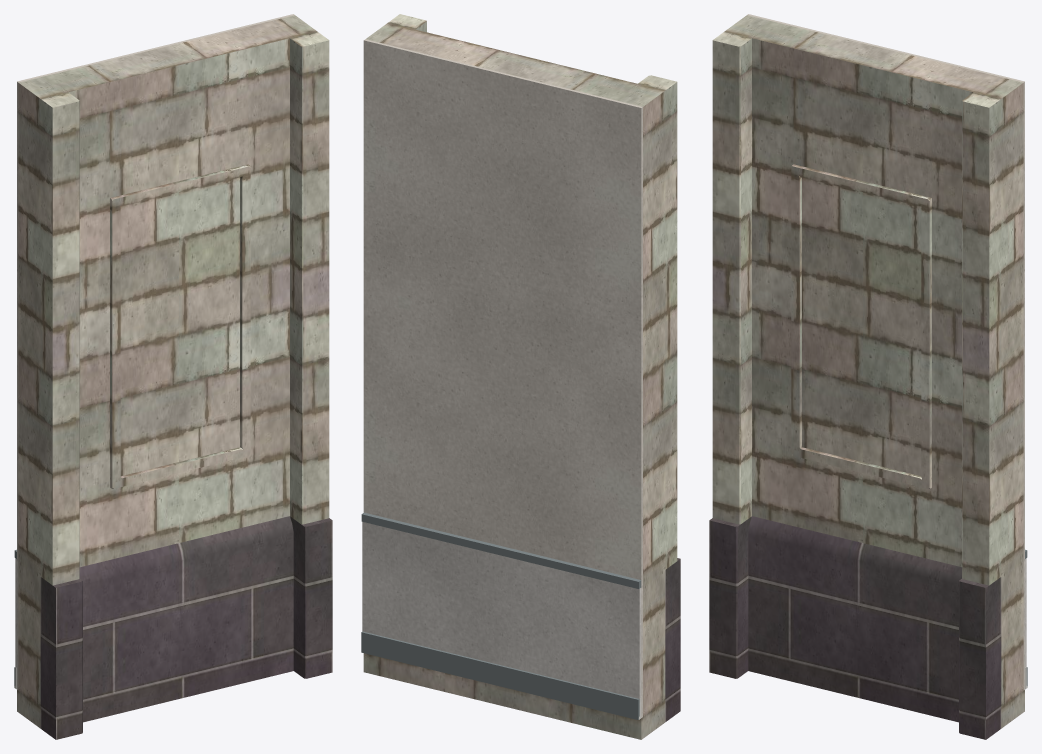
The model's file is g_plain.glb.
The picture shows the model from 3 angles, left to right: view 1: azimuth 30°, elevation 25°; view 2: azimuth 150°, elevation 25°; view 3: azimuth 330°, elevation 25°; orthographic projection.
Visible parts, largest first — view 1: g_plain_stone, g_plain_granite, g_plain_plaster; view 2: g_plain_plaster, g_plain_stone, g_plain_marble, g_plain_marble_d, g_plain_granite; view 3: g_plain_stone, g_plain_granite, g_plain_plaster.
Boxes of the visible parts, <box> form: g_plain_stone: <box>17,15,329,728</box>; g_plain_granite: <box>40,516,332,739</box>; g_plain_plaster: <box>17,14,294,690</box>; g_plain_plaster: <box>363,39,642,717</box>; g_plain_stone: <box>363,14,677,739</box>; g_plain_marble: <box>362,522,641,715</box>; g_plain_marble_d: <box>361,512,641,719</box>; g_plain_granite: <box>665,558,680,721</box>; g_plain_stone: <box>712,15,1024,728</box>; g_plain_granite: <box>709,516,1001,739</box>; g_plain_plaster: <box>747,14,1024,690</box>.
Size of the model in its own units: 2 by 4.35 by 0.525.
6 materials, 4 textured.
